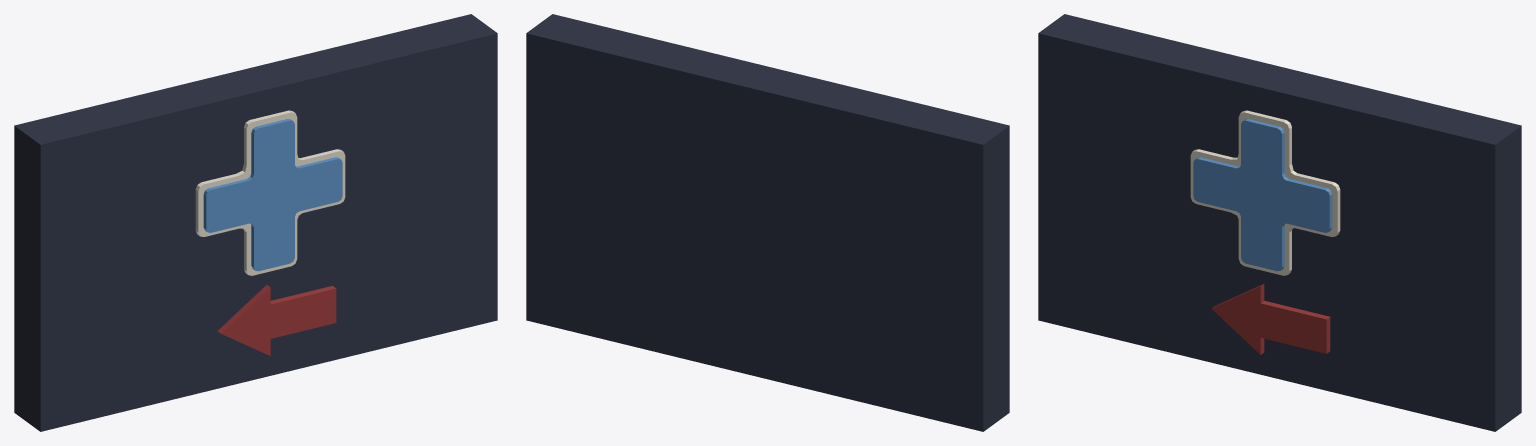
Rendered from pharmacy_wsignLeft.fbx.
3 renders of one model, left to right at view 1: azimuth 30°, elevation 25°; view 2: azimuth 150°, elevation 25°; view 3: azimuth 330°, elevation 25°, orthographic.
Parts seen in each view (by area): view 1: pharmacy_wsignLeft; view 2: pharmacy_wsignLeft; view 3: pharmacy_wsignLeft.
Part boxes in pixels (x1,y1,x2,y2): pharmacy_wsignLeft: [14, 14, 497, 431]; pharmacy_wsignLeft: [526, 14, 1009, 431]; pharmacy_wsignLeft: [1038, 14, 1521, 431].
Bounding box in the file's own units: 1 × 0.6 × 0.1199.
